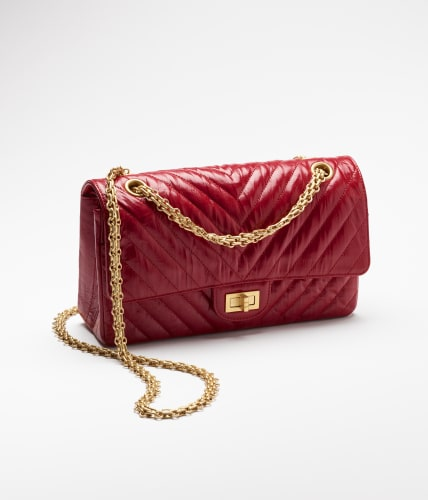channel: (91, 125, 368, 335), (122, 175, 230, 246)
